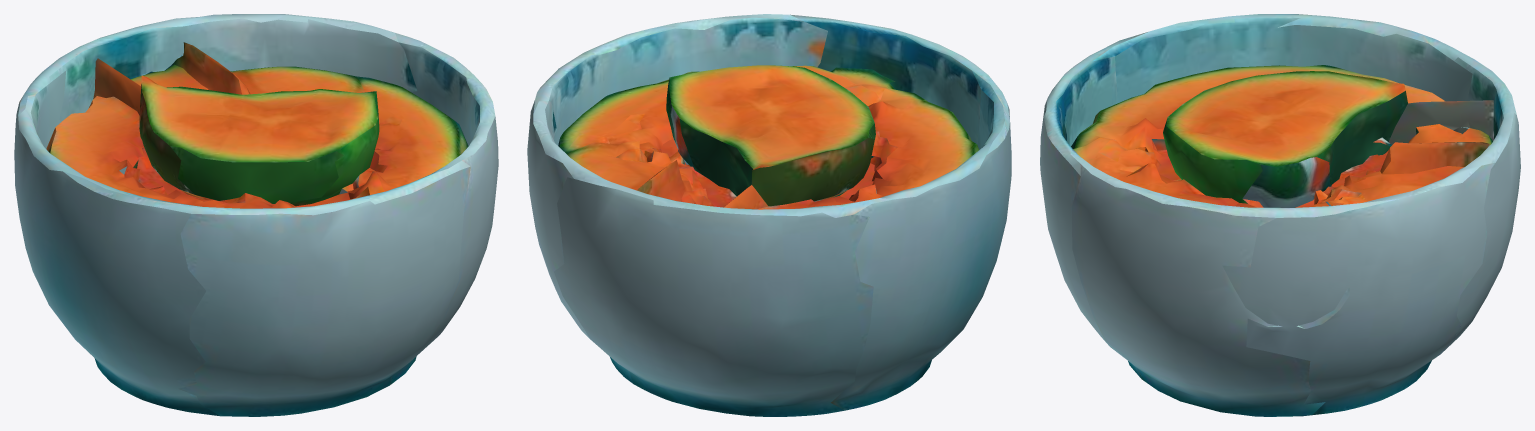
File: honey_melon.glb
The picture shows the model from 3 angles, left to right: view 1: azimuth 30°, elevation 25°; view 2: azimuth 150°, elevation 25°; view 3: azimuth 270°, elevation 25°; orthographic projection.
Parts seen in each view (by area): view 1: honey_melon_n; view 2: honey_melon_n; view 3: honey_melon_n.
Boxes of the visible parts, x1,y1,x2,y2 form: honey_melon_n: (14,14,498,416); honey_melon_n: (527,14,1011,416); honey_melon_n: (1040,14,1520,416).
Bounding box in the file's own units: 1 × 0.5495 × 0.9992.
Materials: 1 (1 with a texture image).
